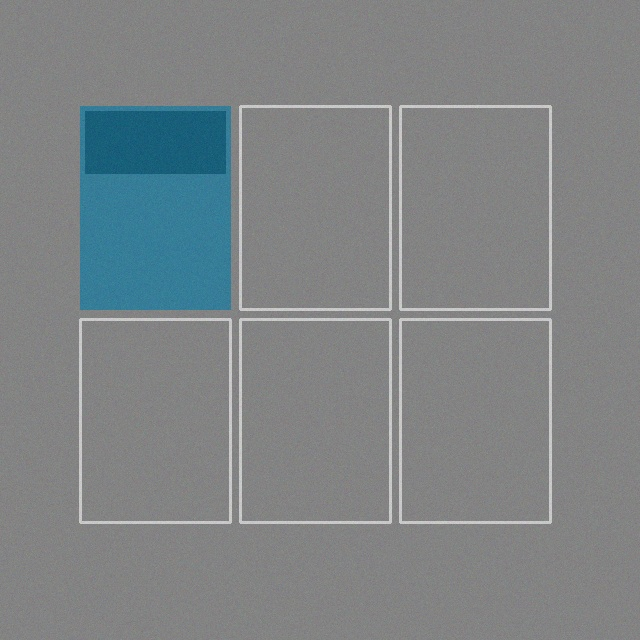space-empty: (240, 106, 390, 309), (400, 106, 550, 309), (80, 319, 230, 522), (240, 319, 390, 522), (400, 319, 550, 522)
space-occupied: (80, 106, 230, 309)
